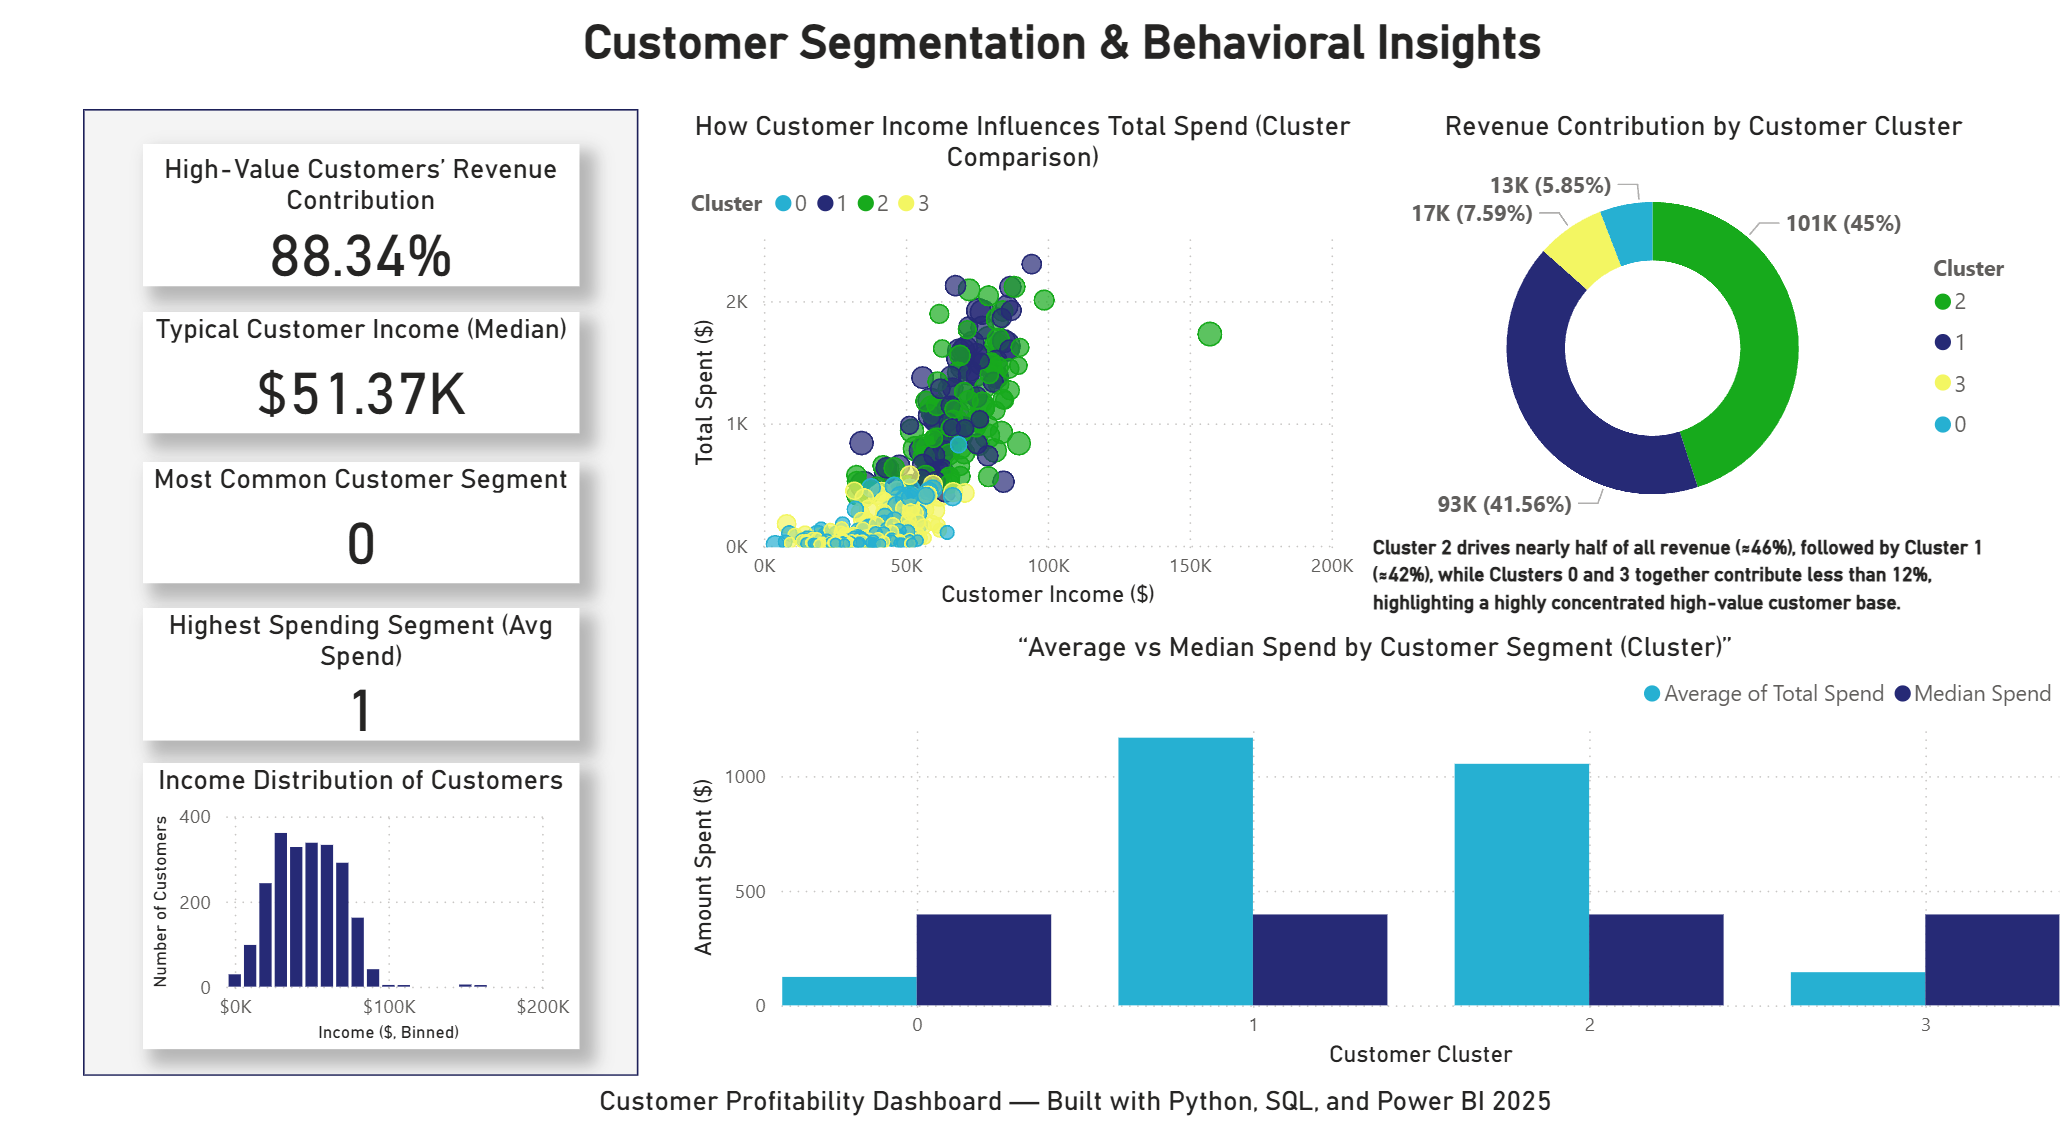

This screenshot's page, from the dashboard's own definition file:
{"tool":"powerbi","page":{"name":"Page 2","canvas":[1280,720],"ordinal":1},"visuals":[{"type":"shape","box":[51.7,85.7,343.6,598.1],"z":0},{"type":"card","title":"High-Value Customers’ Revenue Contribution","fields":{"Values":["SampledCustomers.Percent Revenue HighValue"]},"box":[89,107.3,269.6,88.3],"z":1},{"type":"card","title":"Typical Customer Income (Median)","fields":{"Values":["SampledCustomers.Median Income"]},"box":[89,211.4,269.6,74.6],"z":2},{"type":"card","title":"Most Common Customer Segment","fields":{"Values":["SampledCustomers.Most Common Cluster"]},"box":[89,304.3,269.6,75.3],"z":3},{"type":"card","title":"Highest Spending Segment (Avg Spend)","fields":{"Values":["SampledCustomers.Highest Spending Cluster"]},"box":[89,394.6,269.6,81.8],"z":4},{"type":"clusteredColumnChart","title":"Income Distribution of Customers","fields":{"Category":["customer_profitability_final.Income (bins)"],"Y":["CountNonNull(customer_profitability_final.customerid)"]},"box":[89,490.8,269.6,177.3],"z":5},{"type":"scatterChart","title":"How Customer Income Influences Total Spend (Cluster Comparison)","fields":{"Y":["Sum(SampledCustomers.Total_Spend)"],"X":["SampledCustomers.Income"],"Series":["SampledCustomers.Cluster"],"Size":["Sum(SampledCustomers.Total_Purchases)"]},"box":[423.4,85.7,420.1,313.5],"z":6},{"type":"donutChart","title":"Revenue Contribution by Customer Cluster","fields":{"Category":["SampledCustomers.Cluster"],"Y":["Sum(SampledCustomers.Total_Spend)"]},"box":[844.2,85.7,420.1,276.8],"z":7},{"type":"textbox","box":[844.8,342.2,419.5,61.5],"z":8},{"type":"clusteredColumnChart","title":"“Average vs Median Spend by Customer Segment (Cluster)”","fields":{"Category":["SampledCustomers.Cluster"],"Y":["Avg(SampledCustomers.Total_Spend)","SampledCustomers.Median Spend"]},"box":[422.7,408.3,857.3,275.5],"z":9},{"type":"textbox","box":[51.7,22.2,1211.9,54.3],"z":10},{"type":"textbox","box":[51.7,683.8,1228.3,36],"z":11}]}

Visuals, with their boxes in screenshot pixels (x1, y1, x2, y2), scaled from the page's 1280x720 canvas onto the 2065x1132 screenshot:
shape: (left=83, top=135, right=638, bottom=1075)
"High-Value Customers’ Revenue Contribution" card: (left=144, top=169, right=579, bottom=308)
"Typical Customer Income (Median)" card: (left=144, top=332, right=579, bottom=450)
"Most Common Customer Segment" card: (left=144, top=478, right=579, bottom=597)
"Highest Spending Segment (Avg Spend)" card: (left=144, top=620, right=579, bottom=749)
"Income Distribution of Customers" clusteredColumnChart: (left=144, top=772, right=579, bottom=1050)
"How Customer Income Influences Total Spend (Cluster Comparison)" scatterChart: (left=683, top=135, right=1361, bottom=628)
"Revenue Contribution by Customer Cluster" donutChart: (left=1362, top=135, right=2040, bottom=570)
textbox: (left=1363, top=538, right=2040, bottom=635)
"“Average vs Median Spend by Customer Segment (Cluster)”" clusteredColumnChart: (left=682, top=642, right=2064, bottom=1075)
textbox: (left=83, top=35, right=2039, bottom=120)
textbox: (left=83, top=1075, right=2064, bottom=1131)
